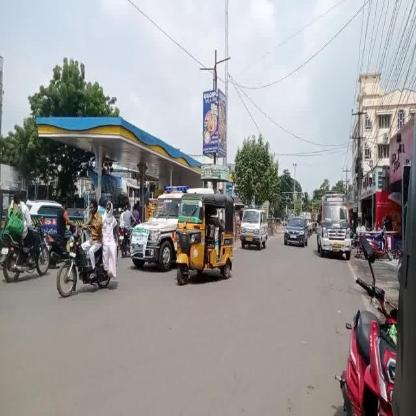priority: (124, 177, 178, 259), (318, 189, 354, 268)
